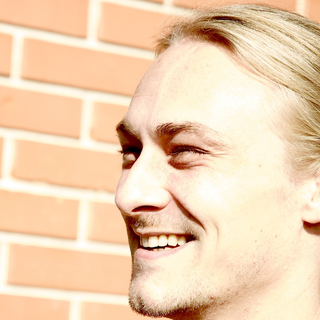eye: (166, 141, 214, 164)
